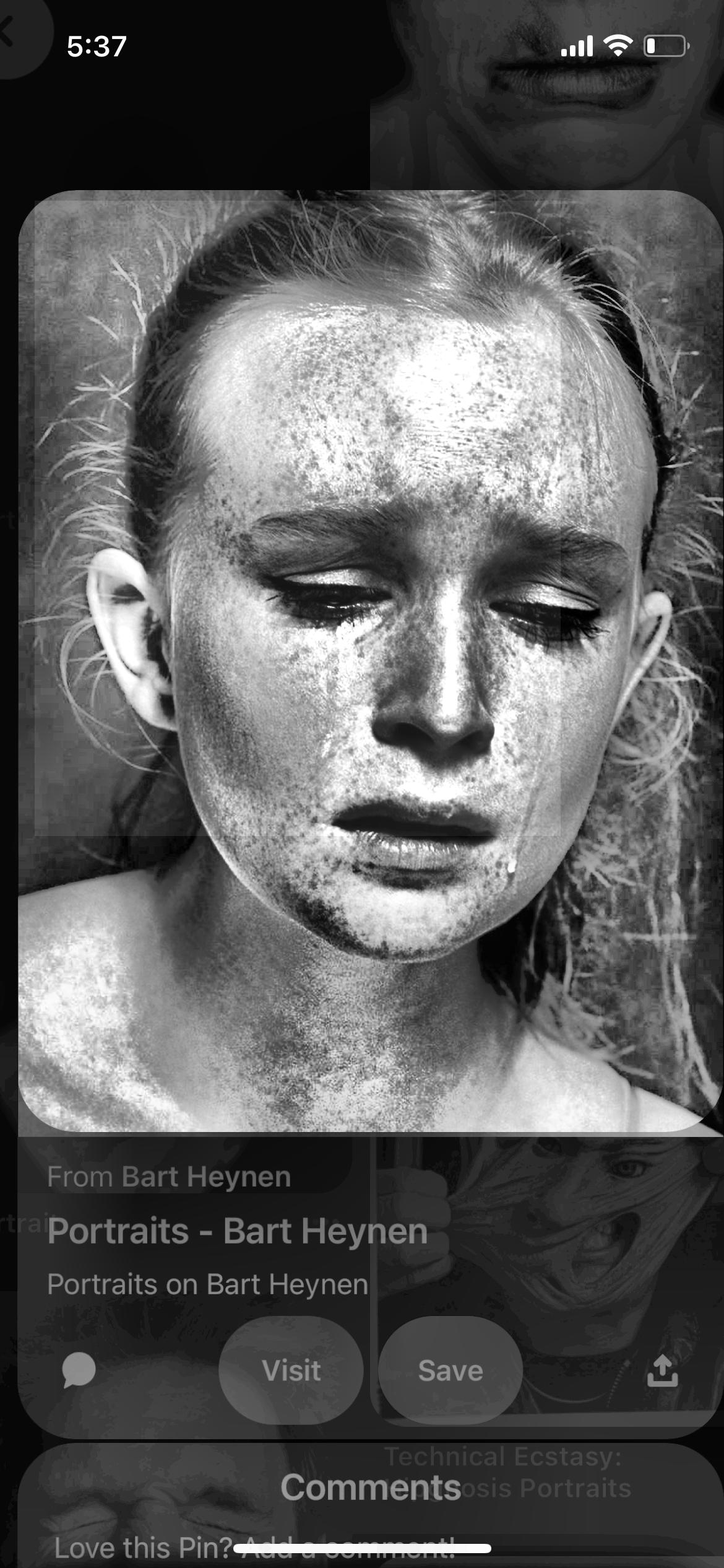sad: (43, 248, 693, 1034)
